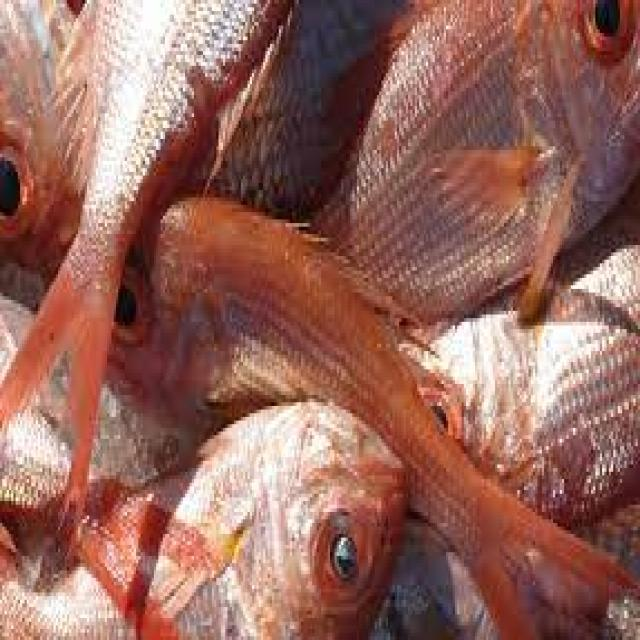northern-red-snapper: (136, 193, 630, 640), (0, 394, 431, 638), (314, 0, 640, 319), (0, 0, 218, 438), (385, 285, 640, 536), (1, 3, 96, 306)
